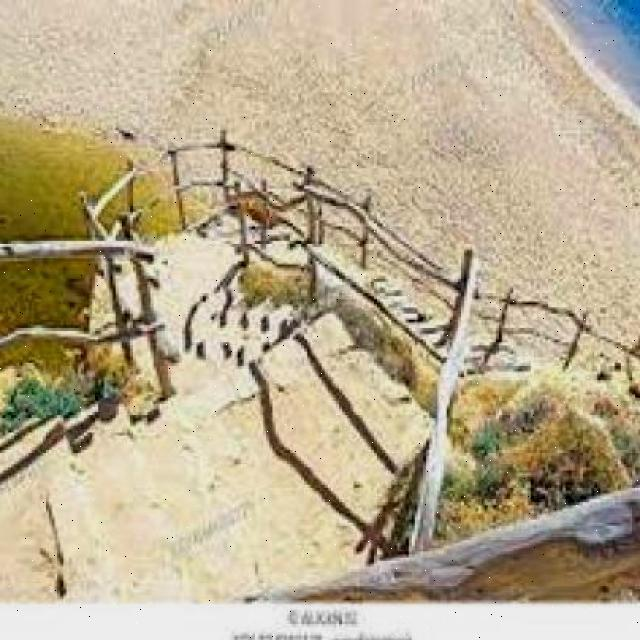stair: (29, 393, 336, 588)
